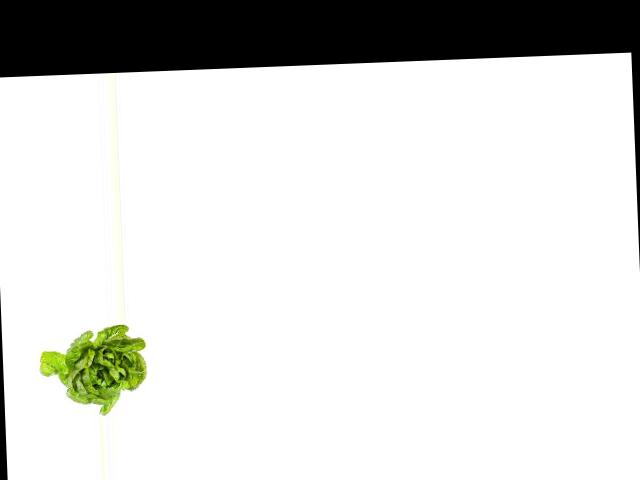lettuce: (34, 326, 150, 418)
